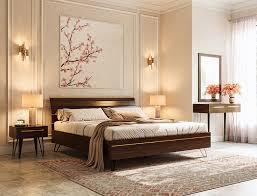bed: (49, 97, 210, 171)
blanket: (88, 120, 176, 170)
carpet: (46, 150, 257, 196)
curtain: (228, 8, 257, 141)
dressing table: (194, 53, 240, 140)
flower: (222, 85, 241, 95)
lamp: (22, 94, 42, 128), (150, 95, 167, 118)
light: (16, 38, 32, 64), (146, 48, 157, 73)
mirror: (199, 52, 223, 101)
painting: (58, 14, 125, 88)
pillow: (58, 110, 109, 121), (108, 107, 146, 121)
table: (10, 125, 48, 159)
vase: (229, 96, 235, 105)
